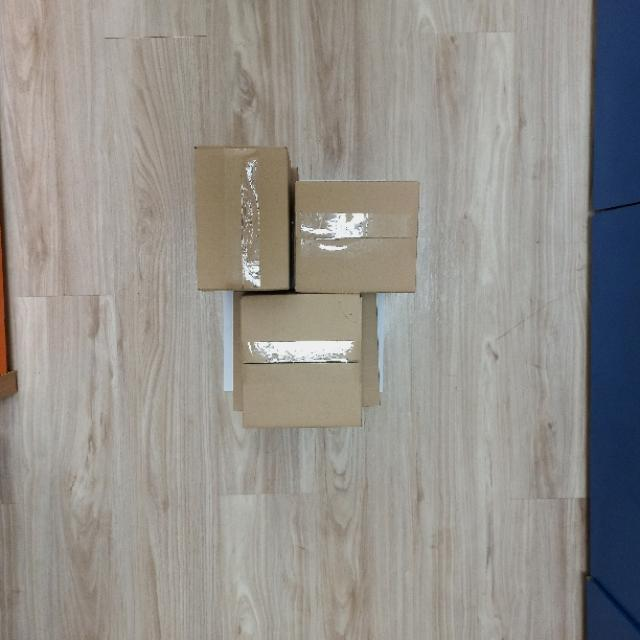box: (237, 292, 367, 430), (186, 144, 294, 296), (291, 180, 423, 298)
